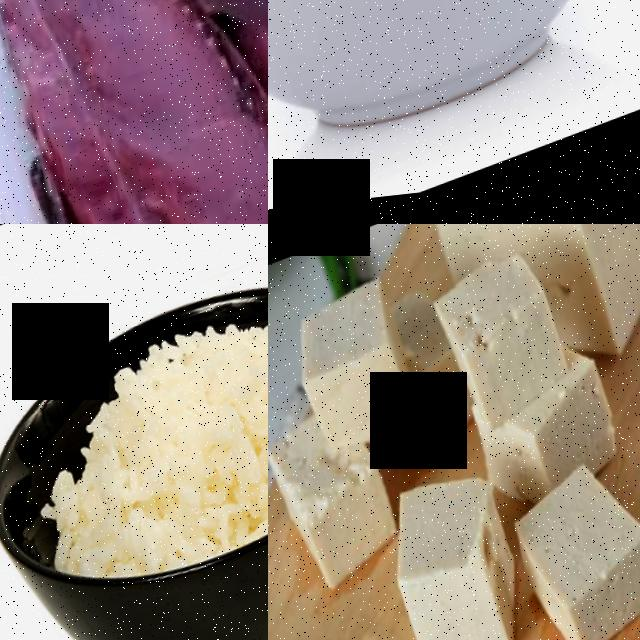tofu: (369, 457, 543, 640), (425, 245, 577, 447), (278, 275, 426, 477), (268, 409, 409, 605), (501, 452, 640, 640)
tuna: (0, 0, 146, 146), (139, 83, 268, 224)
white rice: (16, 288, 268, 612)
